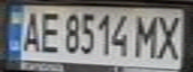1: (93, 10, 115, 56)
4: (112, 10, 136, 57)
5: (78, 10, 96, 55)
8: (60, 9, 81, 55)
A: (18, 8, 45, 54)
E: (36, 8, 63, 54)
M: (130, 11, 163, 60)
X: (154, 11, 187, 61)
